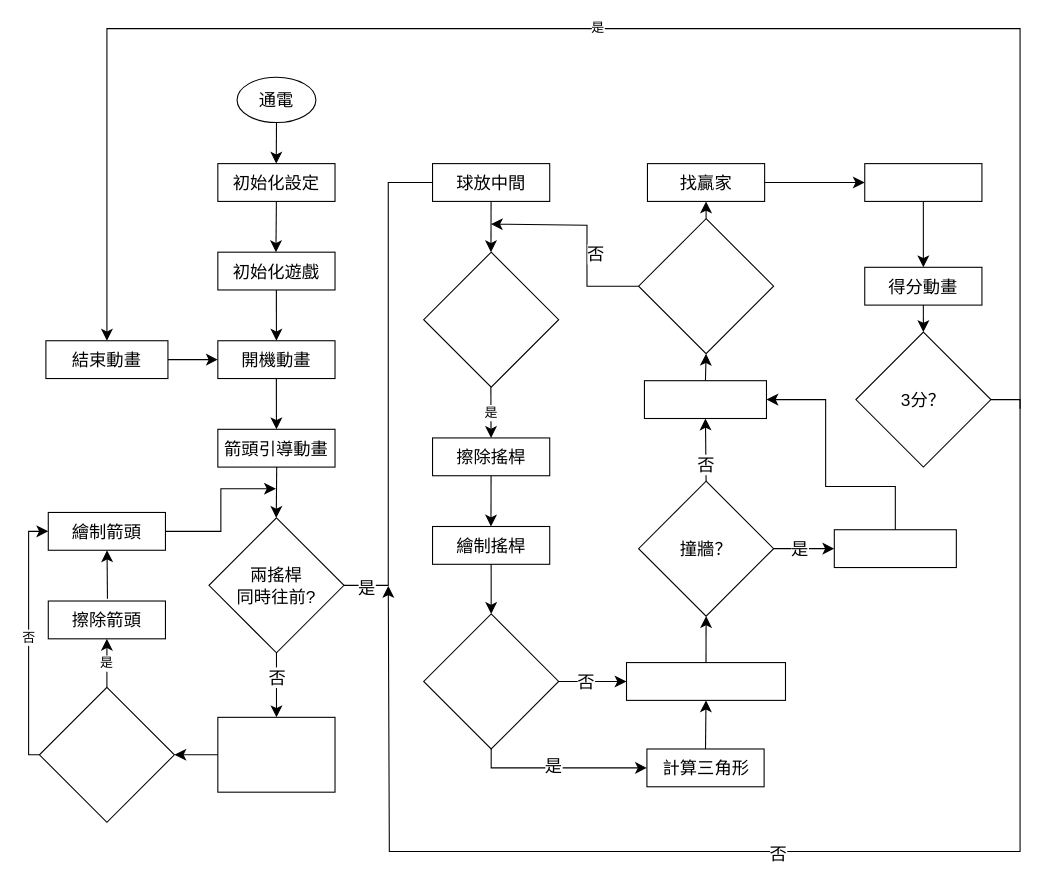
Some shapes in this 1050 by 882 pixel diagram are drawn without their labels. Here are the shapes that lost their labels. From the top down, the box of each, then its label:
(864, 163, 982, 201): 加分
(638, 218, 774, 354): 進門？
(423, 251, 559, 387): 搖桿位置變了?
(643, 380, 766, 418): 繪制球
(833, 529, 956, 568): 反彈
(423, 613, 559, 749): 搖桿碰到球?
(625, 662, 785, 700): 放大相似三角形
(38, 686, 174, 822): 數值 比剛才大?
(217, 716, 335, 792): 直線方程換算 箭頭長度
